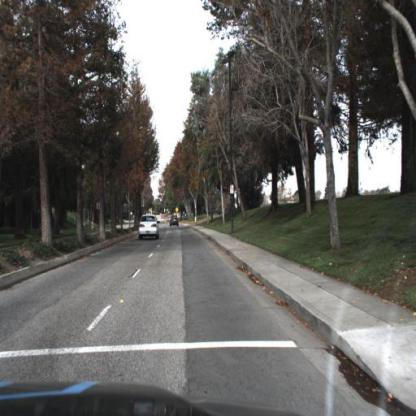car: (140, 213, 159, 242), (171, 215, 180, 228)
